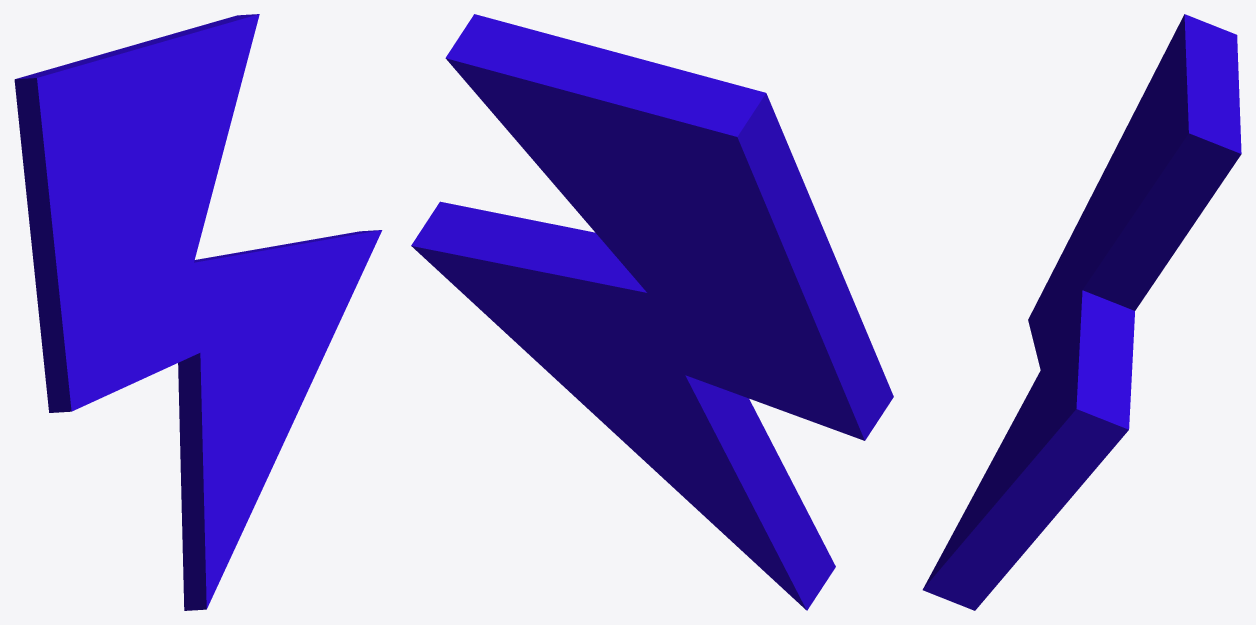
File: lighting.fbx
3 renders of one model, left to right at view 1: azimuth 30°, elevation 25°; view 2: azimuth 150°, elevation 25°; view 3: azimuth 270°, elevation 25°, orthographic. The views are drawn at different scales.
Parts seen in each view (by area): view 1: Plane; view 2: Plane; view 3: Plane.
Part boxes in pixels (box(x1,y1,x2,y2)): Plane: box(14, 14, 382, 610); Plane: box(411, 14, 893, 610); Plane: box(922, 14, 1241, 610).
Size of the model in its own units: 58.78 by 82.91 by 41.85.
